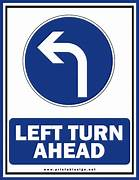left: (22, 12, 116, 107)
